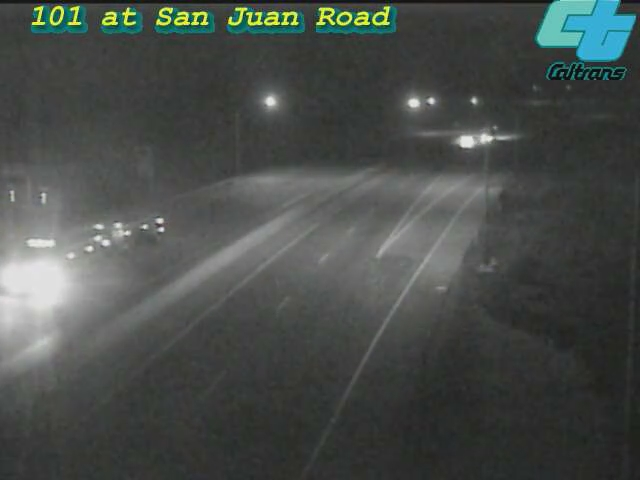vehicle: (19, 229, 99, 309), (470, 107, 520, 157), (447, 114, 497, 164)
